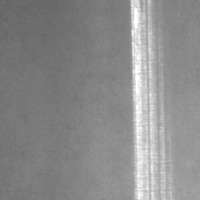scratches: (132, 1, 166, 199)
